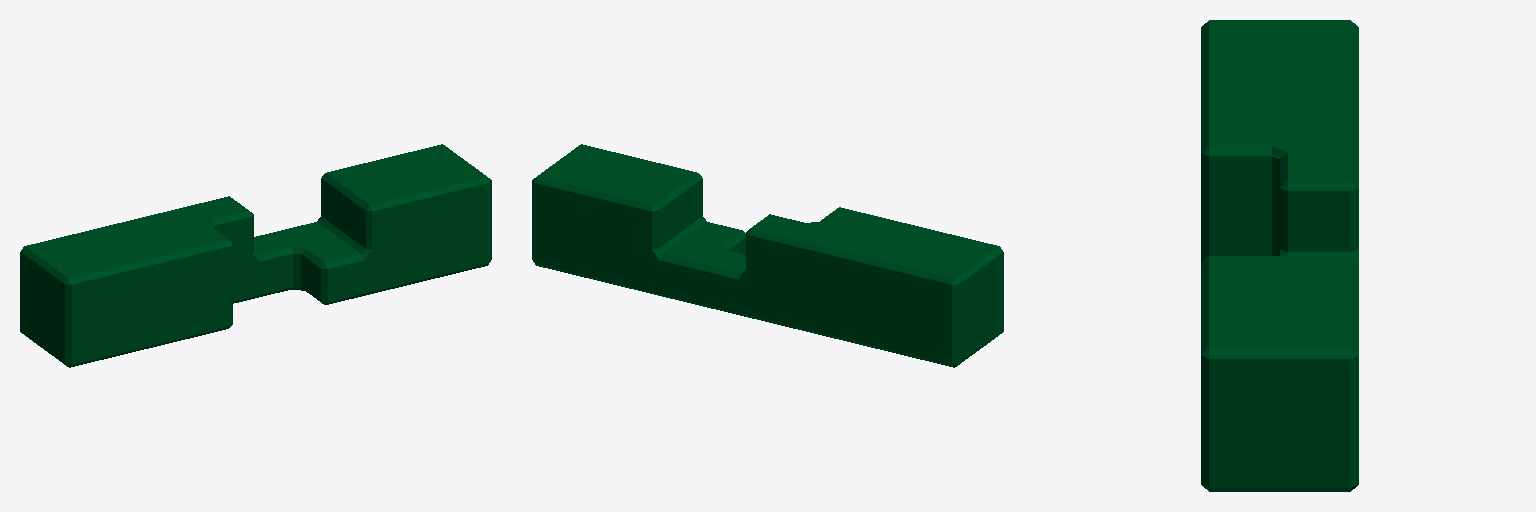
The robot description file, URDF, robot "obj_3":
<robot name="obj_3" version="1.0">
  <link name="obj_3">
    <collision name="obj_3.001">
      <origin rpy="0.00000 0.00000 0.00000" xyz="0.00000 0.00000 0.00000"/>
      <geometry>
        <mesh filename="../meshes/obj/geometry_0.005.obj" scale="1.00000 1.00000 1.00000"/>
      </geometry>
    </collision>
    <collision name="obj_3.002">
      <origin rpy="0.00000 0.00000 0.00000" xyz="0.00000 0.00000 0.00000"/>
      <geometry>
        <mesh filename="../meshes/obj/geometry_1.004.obj" scale="1.00000 1.00000 1.00000"/>
      </geometry>
    </collision>
    <collision name="obj_3.003">
      <origin rpy="0.00000 0.00000 0.00000" xyz="0.00000 0.00000 0.00000"/>
      <geometry>
        <mesh filename="../meshes/obj/geometry_2.004.obj" scale="1.00000 1.00000 1.00000"/>
      </geometry>
    </collision>
    <collision name="obj_3.004">
      <origin rpy="0.00000 0.00000 0.00000" xyz="0.00000 0.00000 0.00000"/>
      <geometry>
        <mesh filename="../meshes/obj/geometry_3.004.obj" scale="1.00000 1.00000 1.00000"/>
      </geometry>
    </collision>
    <collision name="obj_3.005">
      <origin rpy="0.00000 0.00000 0.00000" xyz="0.00000 0.00000 0.00000"/>
      <geometry>
        <mesh filename="../meshes/obj/geometry_4.004.obj" scale="1.00000 1.00000 1.00000"/>
      </geometry>
    </collision>
    <collision name="obj_3.006">
      <origin rpy="0.00000 0.00000 0.00000" xyz="0.00000 0.00000 0.00000"/>
      <geometry>
        <mesh filename="../meshes/obj/geometry_5.003.obj" scale="1.00000 1.00000 1.00000"/>
      </geometry>
    </collision>
    <collision name="obj_3.007">
      <origin rpy="0.00000 0.00000 0.00000" xyz="0.00000 0.00000 0.00000"/>
      <geometry>
        <mesh filename="../meshes/obj/geometry_6.003.obj" scale="1.00000 1.00000 1.00000"/>
      </geometry>
    </collision>
    <collision name="obj_3.008">
      <origin rpy="0.00000 0.00000 0.00000" xyz="0.00000 0.00000 0.00000"/>
      <geometry>
        <mesh filename="../meshes/obj/geometry_7.003.obj" scale="1.00000 1.00000 1.00000"/>
      </geometry>
    </collision>
    <collision name="obj_3.009">
      <origin rpy="0.00000 0.00000 0.00000" xyz="0.00000 0.00000 0.00000"/>
      <geometry>
        <mesh filename="../meshes/obj/geometry_8.002.obj" scale="1.00000 1.00000 1.00000"/>
      </geometry>
    </collision>
    <collision name="obj_3.010">
      <origin rpy="0.00000 0.00000 0.00000" xyz="0.00000 0.00000 0.00000"/>
      <geometry>
        <mesh filename="../meshes/obj/geometry_9.001.obj" scale="1.00000 1.00000 1.00000"/>
      </geometry>
    </collision>
    <collision name="obj_3.011">
      <origin rpy="0.00000 0.00000 0.00000" xyz="0.00000 0.00000 0.00000"/>
      <geometry>
        <mesh filename="../meshes/obj/geometry_10.001.obj" scale="1.00000 1.00000 1.00000"/>
      </geometry>
    </collision>
    <collision name="obj_3.012">
      <origin rpy="0.00000 0.00000 0.00000" xyz="0.00000 0.00000 0.00000"/>
      <geometry>
        <mesh filename="../meshes/obj/geometry_11.001.obj" scale="1.00000 1.00000 1.00000"/>
      </geometry>
    </collision>
    <inertial>
      <inertia ixx="0.00002" ixy="0.00000" ixz="-0.00000" iyy="0.00023" iyz="0.00000" izz="0.00023"/>
      <origin rpy="0.00000 0.00000 0.00000" xyz="0.00000 0.00000 0.00000"/>
      <mass value="0.01000"/>
    </inertial>
    <visual name="obj_3_vis">
      <material name="turnarrow_bluish_green"/>
      <origin rpy="1.57080 0.00000 0.00000" xyz="-0.24642 0.24751 0.20345"/>
      <geometry>
        <mesh filename="../meshes/obj/obj_1_LUBAANSUO2.stp.002.obj" scale="0.00500 0.00500 0.00500"/>
      </geometry>
    </visual>
  </link>
  <material name="turnarrow_bluish_green">
    <color rgba="0.00000 0.34118 0.16863 1.00000"/>
  </material>
</robot>

--- Render facts (derived) ---
Views: 3 orthographic renders of the robot side by side, from view 1: azimuth 30°, elevation 25°; view 2: azimuth 150°, elevation 25°; view 3: azimuth 270°, elevation 25°.
Model obj_3 with 1 links and 0 joints (none), rooted at obj_3, posed all joints at 0.
Links seen in each view (by area): view 1: obj_3; view 2: obj_3; view 3: obj_3.
Link boxes in pixels (x1,y1,x2,y2): obj_3: (20, 144, 491, 367); obj_3: (532, 144, 1003, 367); obj_3: (1201, 20, 1358, 491).
Bounding box of the posed robot: 0.5 × 0.1 × 0.1 m (x, y, z).
Meshes: 1 distinct files referenced, 1 mesh visuals loaded (1 OBJ).